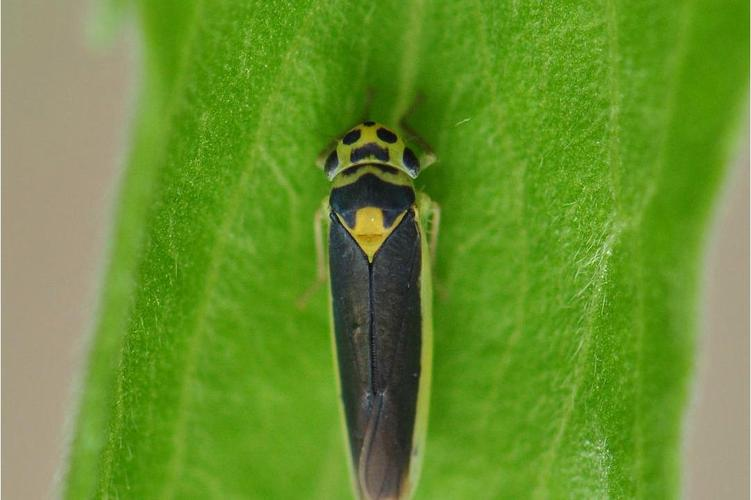Cicadellidae: (311, 121, 448, 500)
